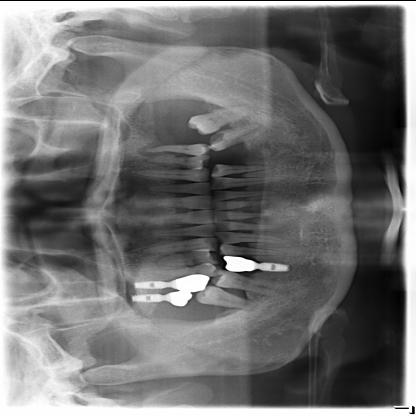Bicon: (257, 258, 292, 280), (130, 276, 166, 290), (130, 288, 157, 304)
